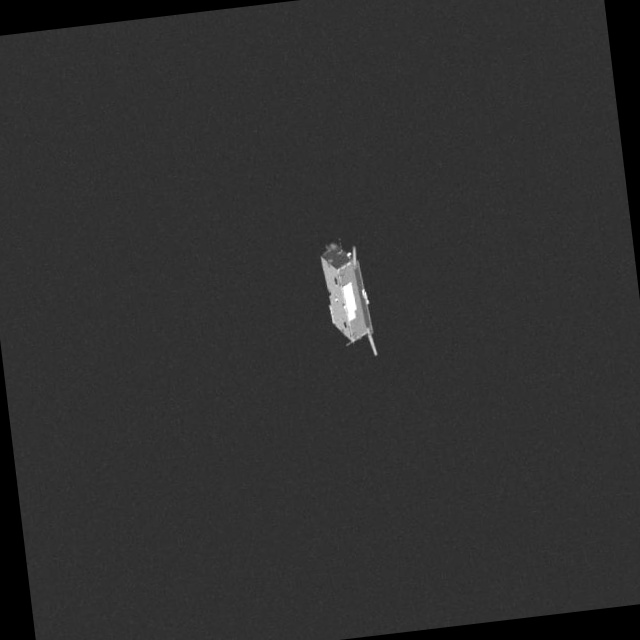medium_debris: (309, 223, 392, 362)
